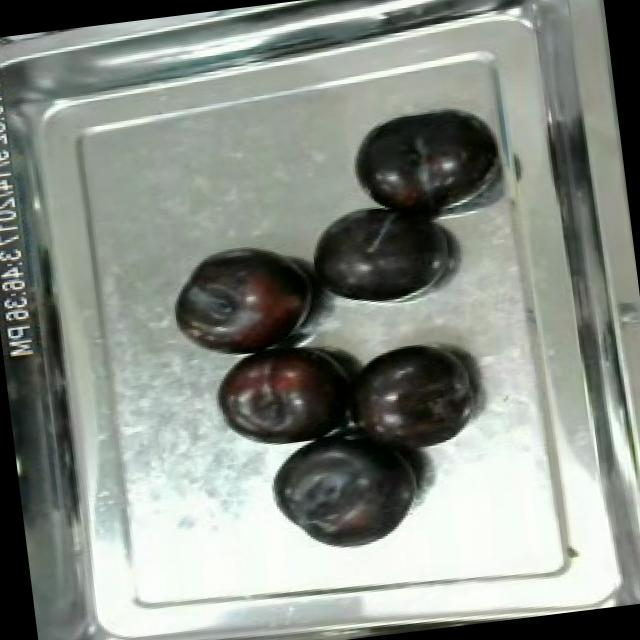Fruit: (265, 421, 432, 559), (340, 95, 504, 228), (162, 237, 321, 366), (296, 194, 458, 315), (341, 334, 483, 461), (206, 337, 356, 449)
